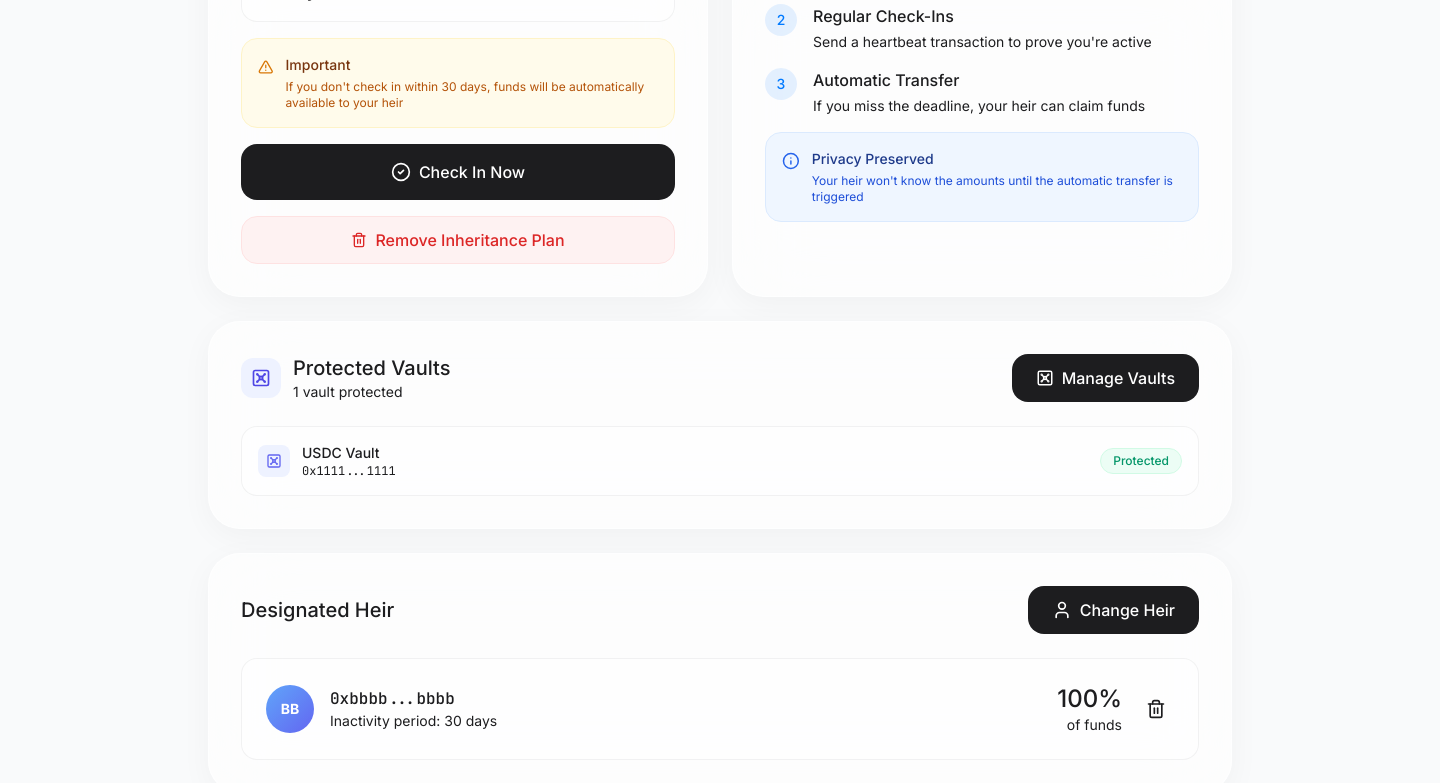
Test case: InheritancePlanning — Vault selector modal (§15.x) › opens on 'Manage Vaults' click + lists USDC Vault from chain contracts
(page scrolled)
Click the button "Manage Vaults" at [1105, 378], box [1012,354,1199,402]
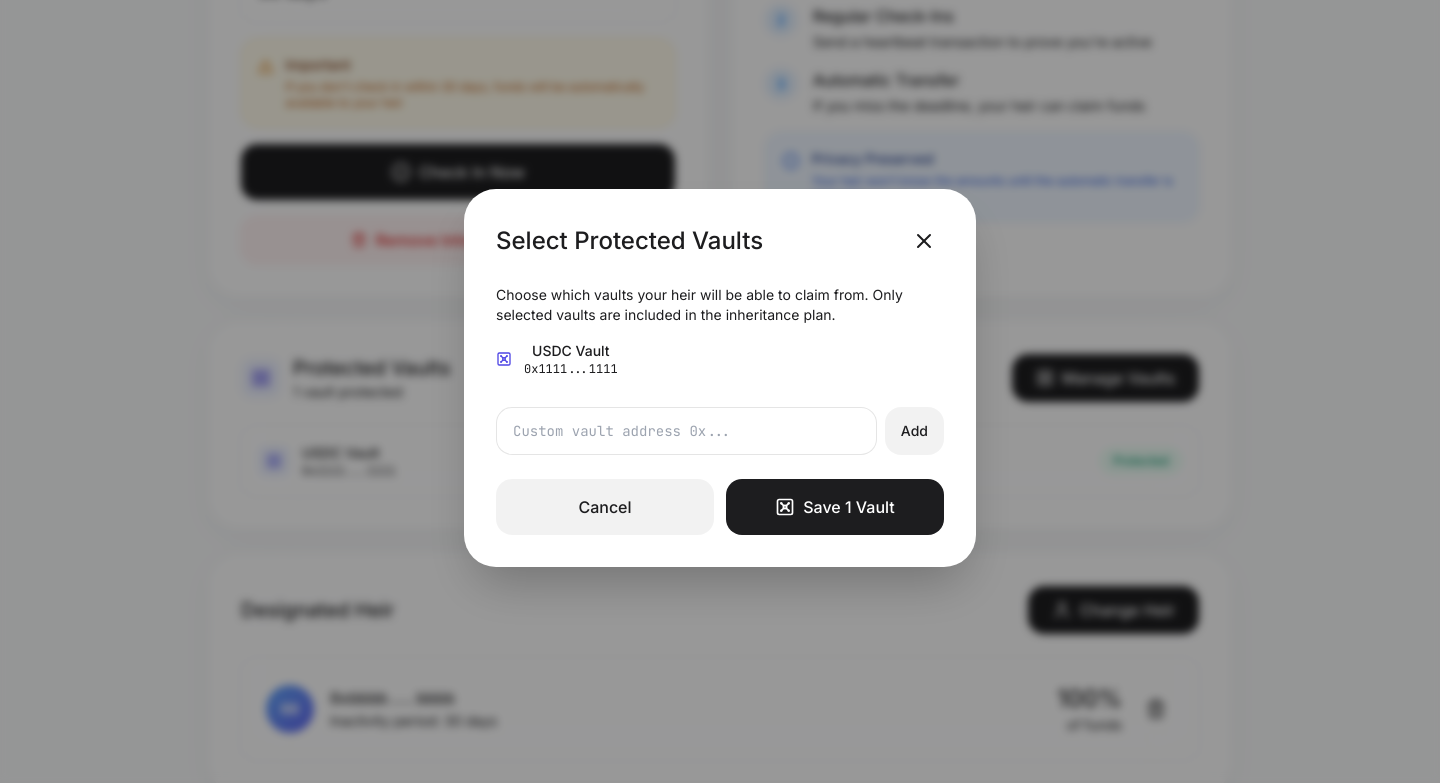
Check: the text "USDC Vault" is shown, box [302,444,380,461]
Check: the text "Select Protected Vaults" is shown, box [496,225,763,257]
